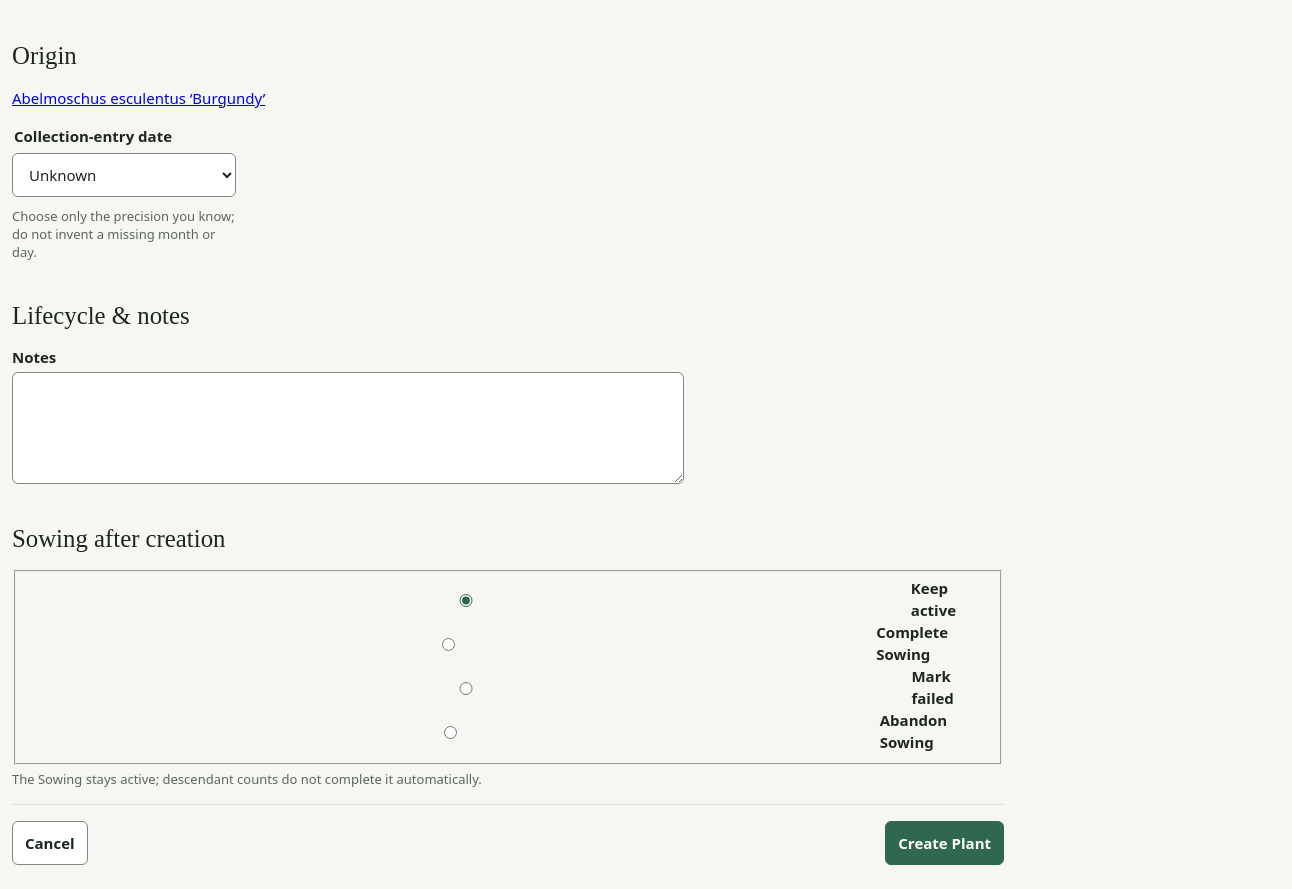
guided Sowing state presents four compact named choices and only the selected consequence
The image size is (1292, 889).
(page scrolled)
Expected: the radio button labelled "Keep active" is checked, [32,594,900,607]
Click the radio button labelled "Complete Sowing". click: (449, 645)
box: [32,638,865,651]
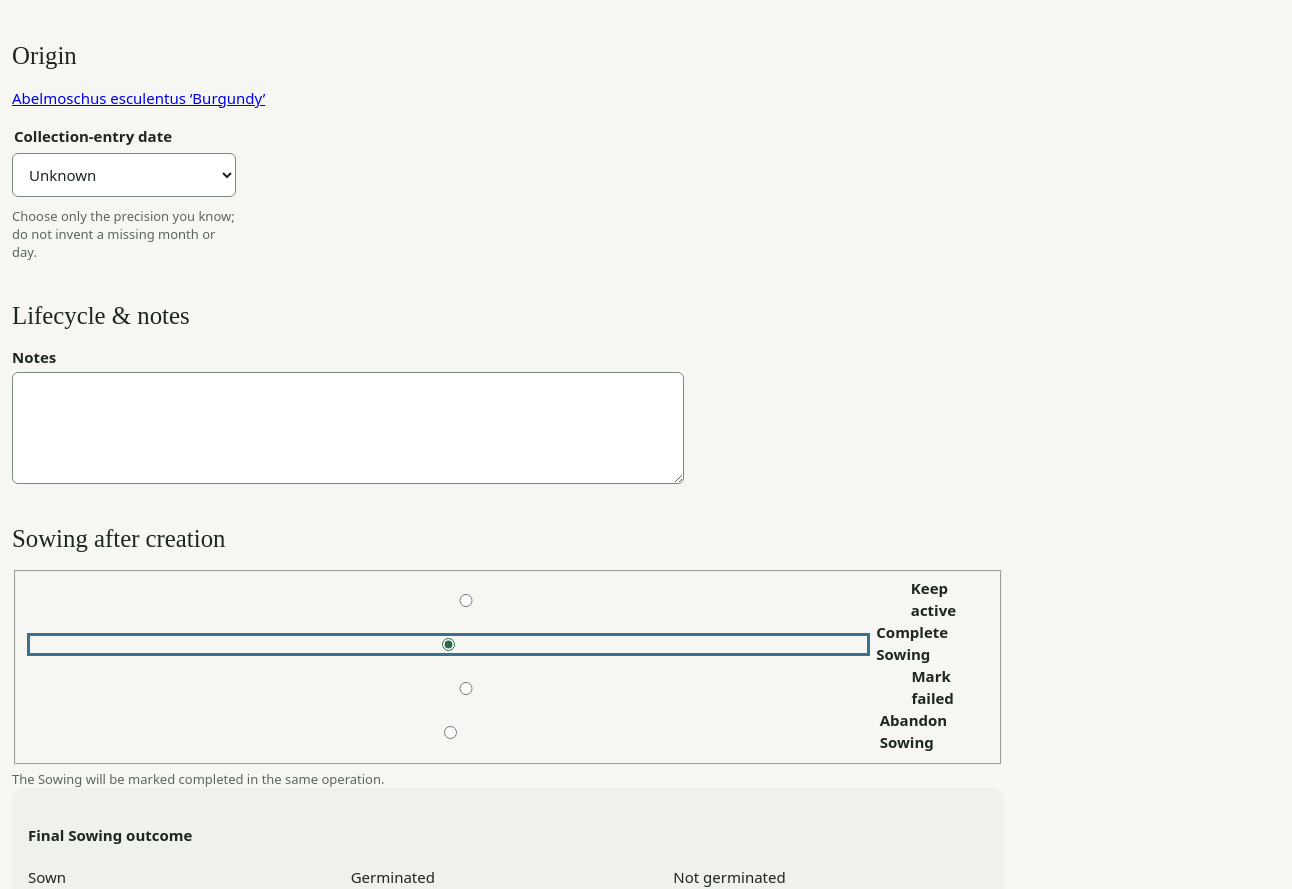
Click the radio button labelled "Mark failed". click: (466, 689)
box: [32,682,900,695]
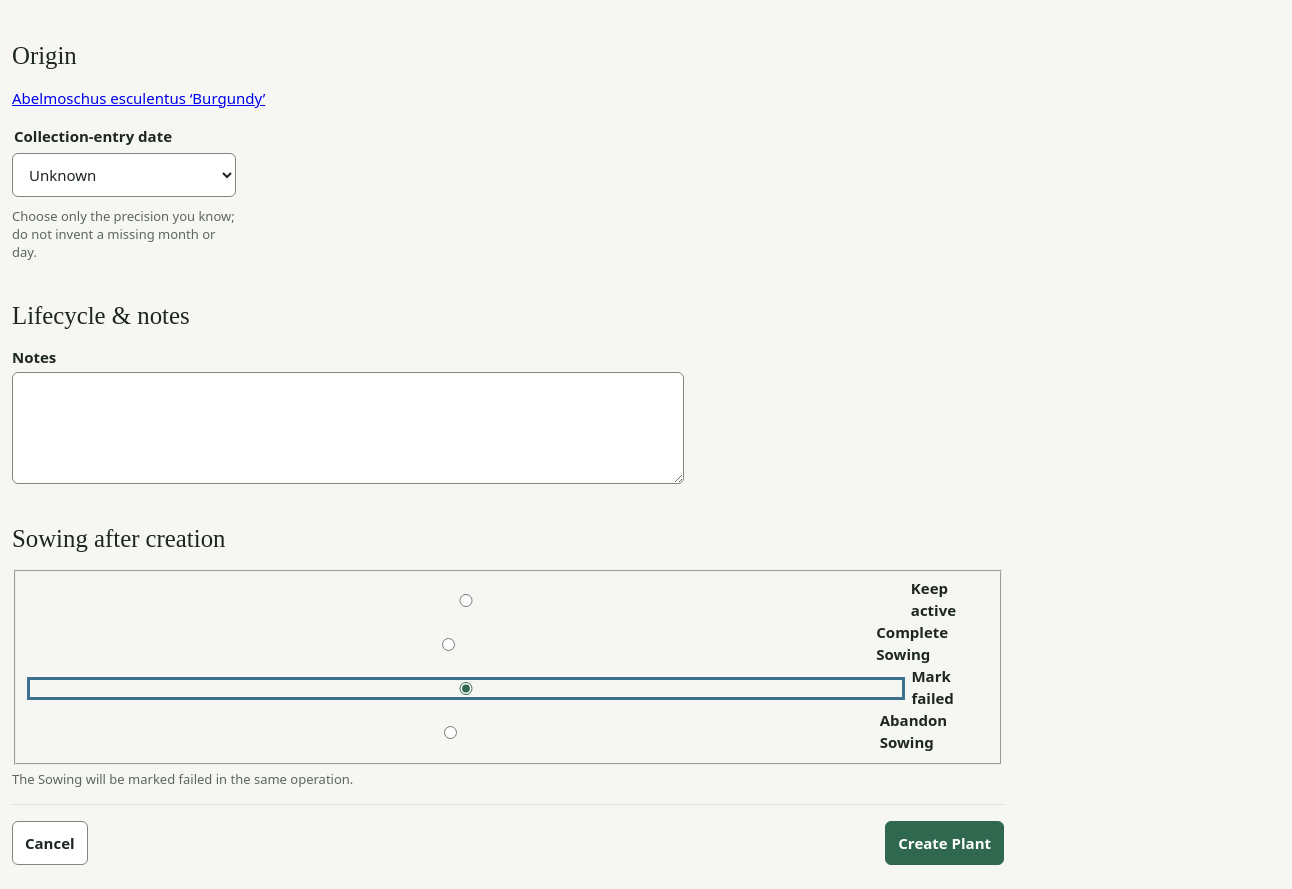
Click the radio button labelled "Abandon Sowing". click: (451, 733)
box: [32,726,869,739]
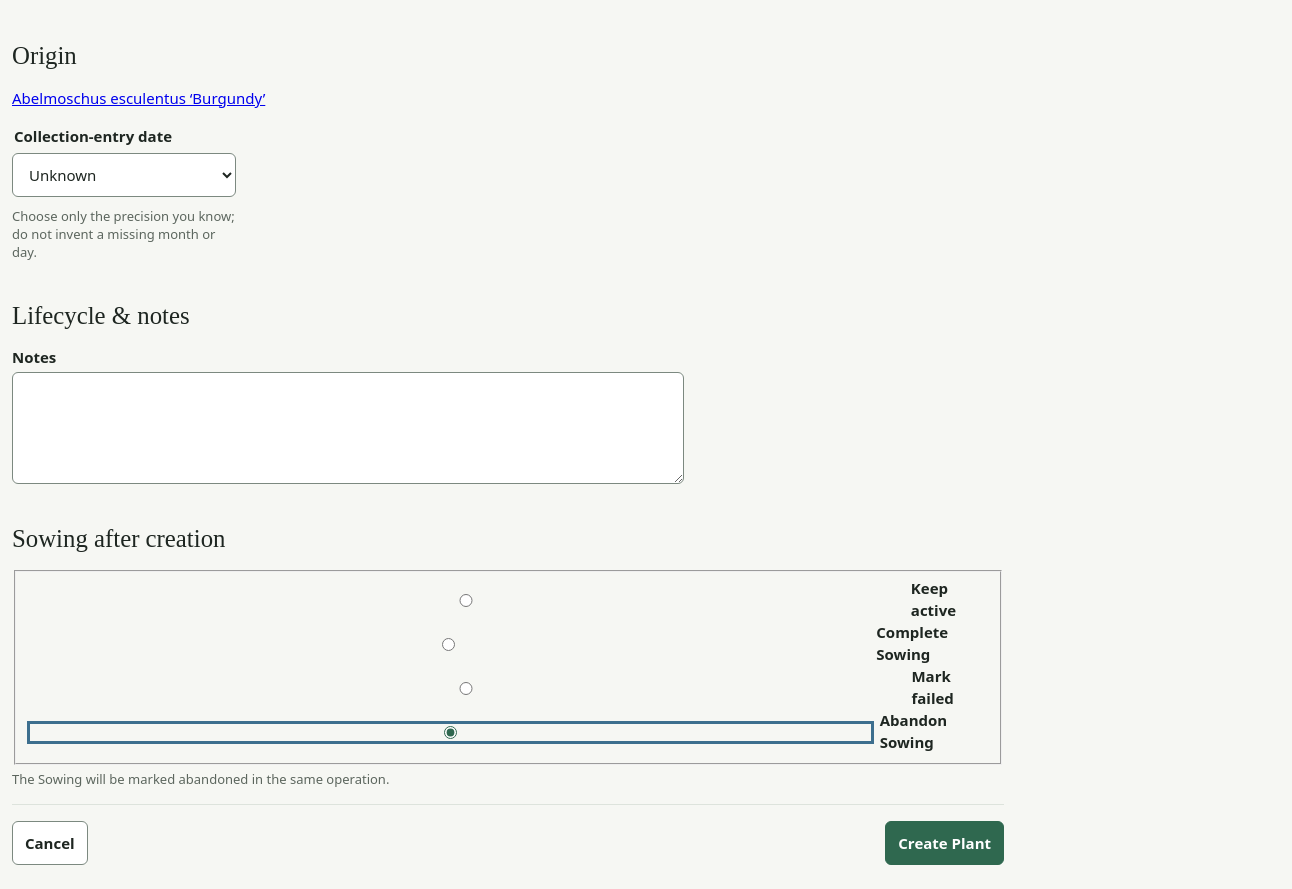
Click the radio button labelled "Keep active". click: (466, 601)
box: [32,594,900,607]
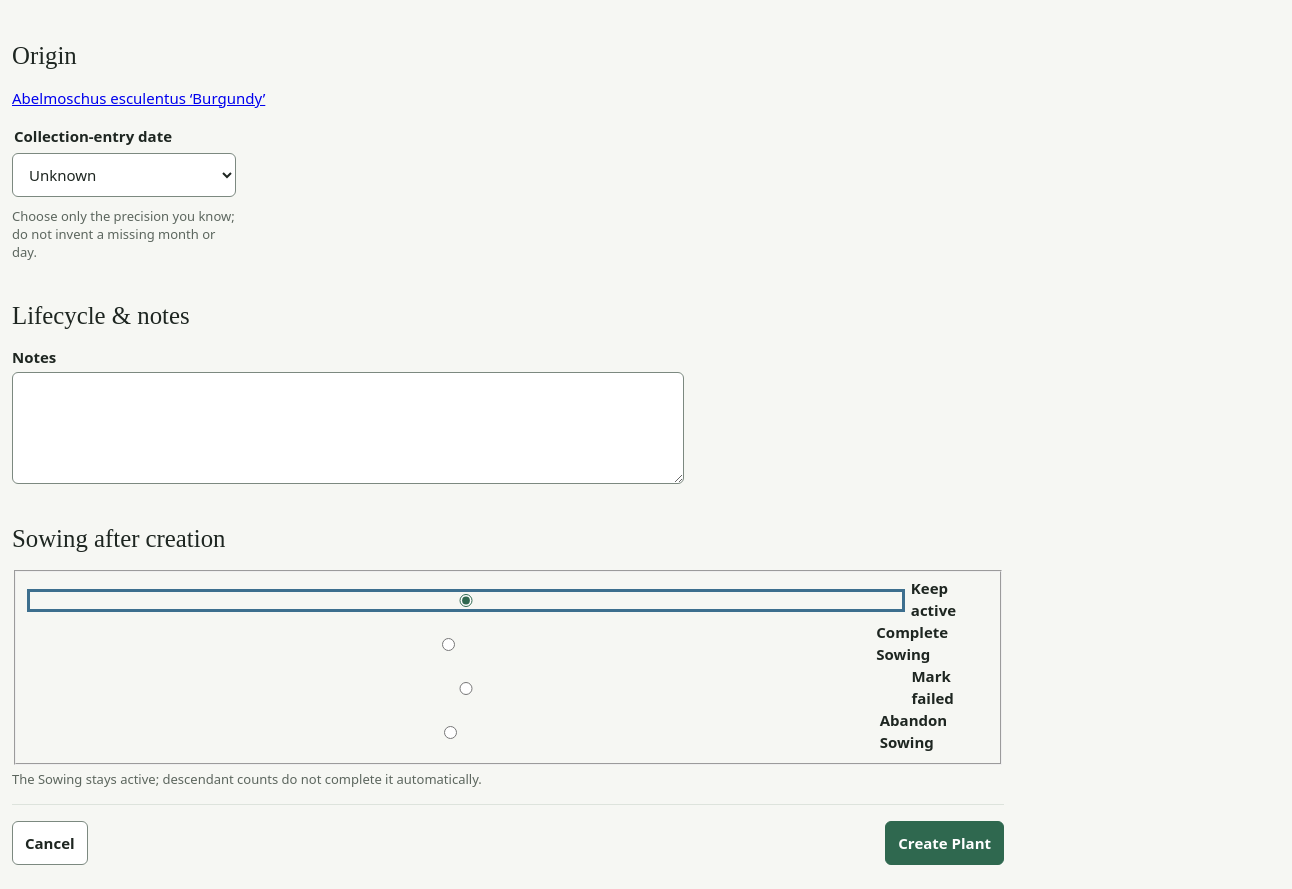
Expected: the text with id "descendant-state-help" shows "counts do not complete it automatically", [12,770,482,788]
